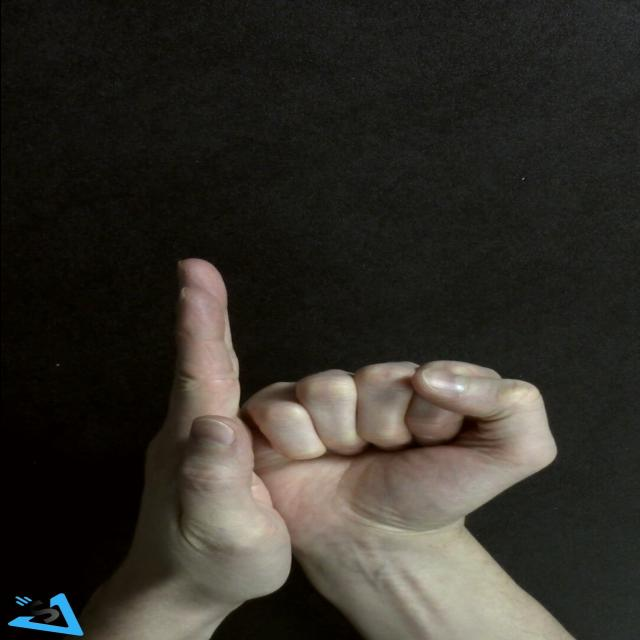Rock: (246, 360, 554, 536)
